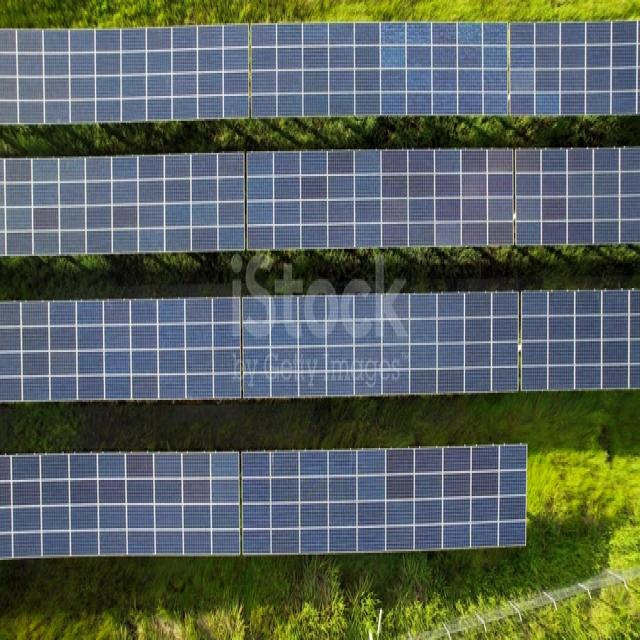Solar-panels: (2, 150, 640, 259), (3, 295, 639, 401), (3, 23, 640, 123), (2, 444, 527, 560)
